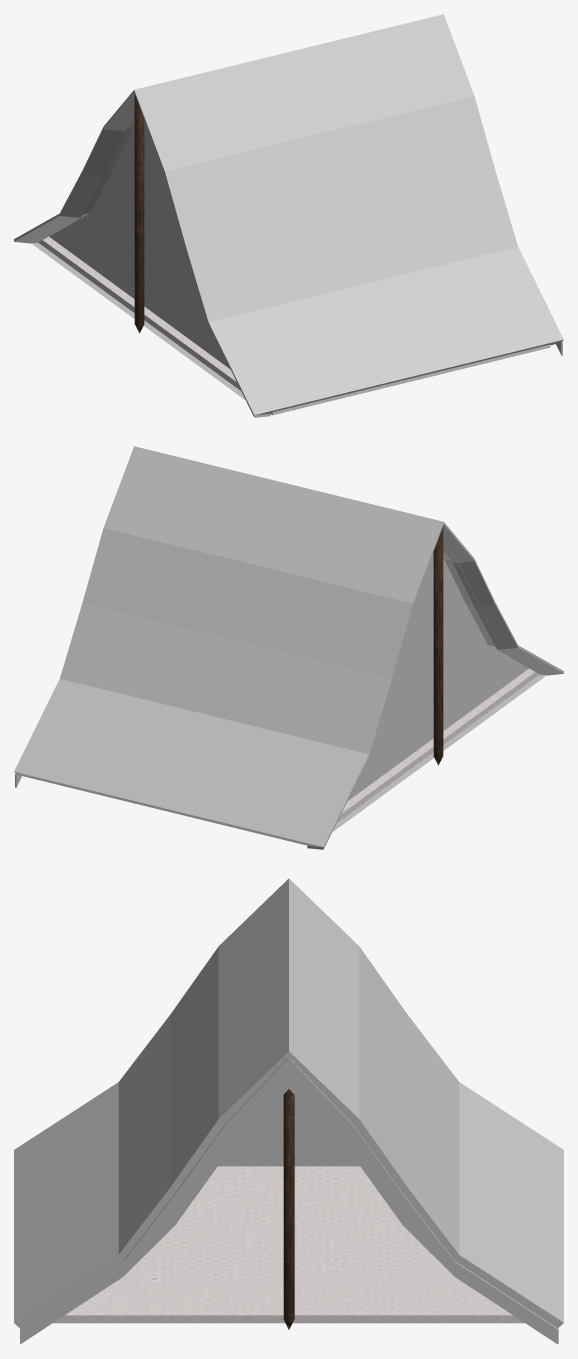
File: TentV2.fbx
3 renders of one model, top to bottom at view 1: azimuth 30°, elevation 25°; view 2: azimuth 150°, elevation 25°; view 3: azimuth 270°, elevation 25°, orthographic. The views are drawn at different scales.
Parts seen in each view (by area): view 1: Tent; view 2: Tent; view 3: Tent.
Boxes of the visible parts, x1,y1,x2,y2 form: Tent: [14, 14, 563, 417]; Tent: [14, 446, 563, 849]; Tent: [14, 878, 563, 1344].
Size of the model in its own units: 188 by 147 by 251.
